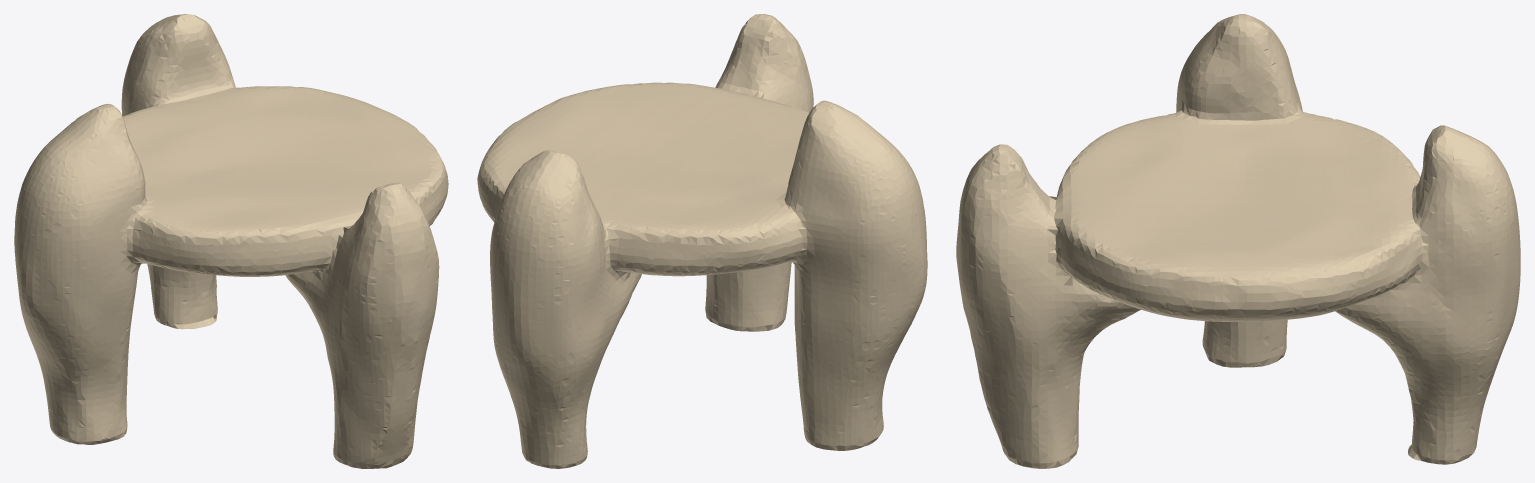
Rendered from stolform-05.glb.
3 views of the same model, side by side, from view 1: azimuth 30°, elevation 25°; view 2: azimuth 150°, elevation 25°; view 3: azimuth 270°, elevation 25° (orthographic). The views are drawn at different scales.
Visible parts, largest first — view 1: stolform-05; view 2: stolform-05; view 3: stolform-05.
Part boxes in pixels (x1=…): stolform-05: x1=14, y1=14, x2=448, y2=468; stolform-05: x1=477, y1=14, x2=927, y2=468; stolform-05: x1=956, y1=14, x2=1520, y2=468.
Size of the model in its own units: 0.8864 by 0.6784 by 0.999.
